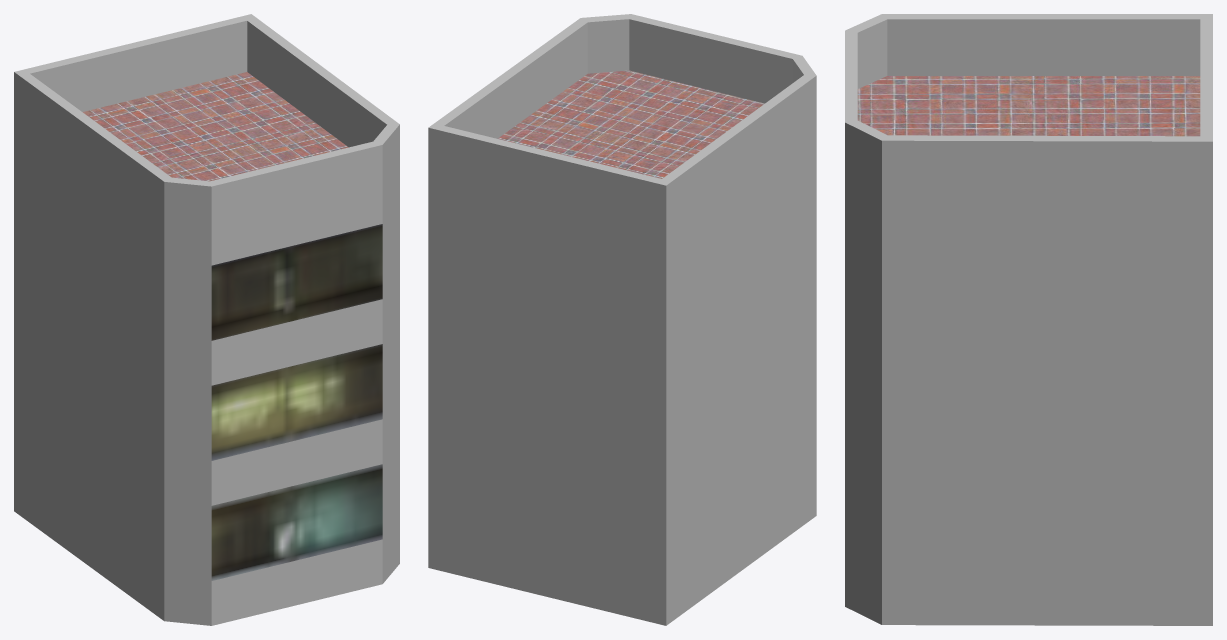
The model's file is hirise_parts01_3f.fbx.
3 renders of one model, left to right at view 1: azimuth 30°, elevation 25°; view 2: azimuth 150°, elevation 25°; view 3: azimuth 270°, elevation 25°, orthographic. The views are drawn at different scales.
Visible parts, largest first — view 1: hirise_parts01_3f; view 2: hirise_parts01_3f; view 3: hirise_parts01_3f.
Part boxes in pixels (x1,y1,x2,y2): hirise_parts01_3f: (14, 14, 399, 625); hirise_parts01_3f: (428, 14, 816, 625); hirise_parts01_3f: (845, 14, 1212, 625).
Size of the model in its own units: 6.4 by 11.33 by 7.8.
